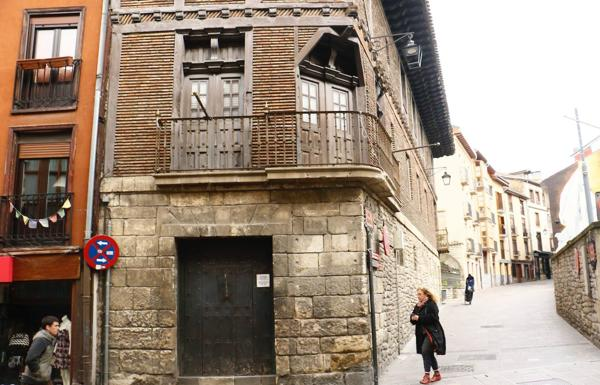Muro: (115, 4, 396, 381), (1, 1, 100, 379)
Persona: (407, 285, 444, 383), (22, 317, 67, 384)
